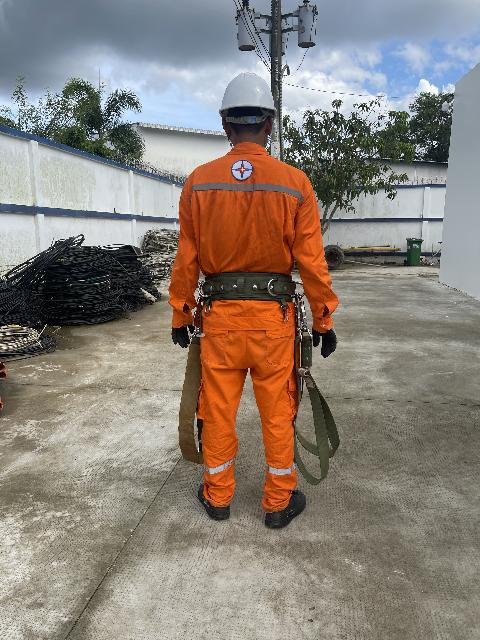gloves: (164, 314, 206, 352), (305, 319, 343, 359)
harness: (190, 251, 311, 321)
helmet: (206, 67, 296, 130)
shoes: (251, 474, 311, 533), (184, 472, 230, 525)
